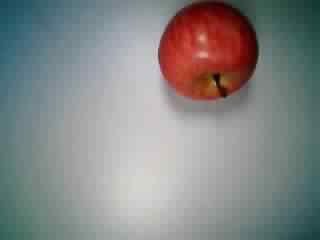apple: (154, 1, 261, 104)
